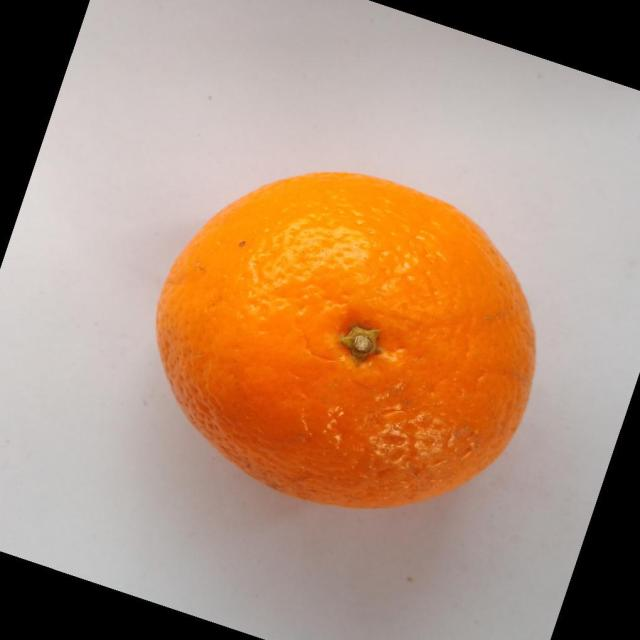fresh orange: (154, 170, 537, 510)
